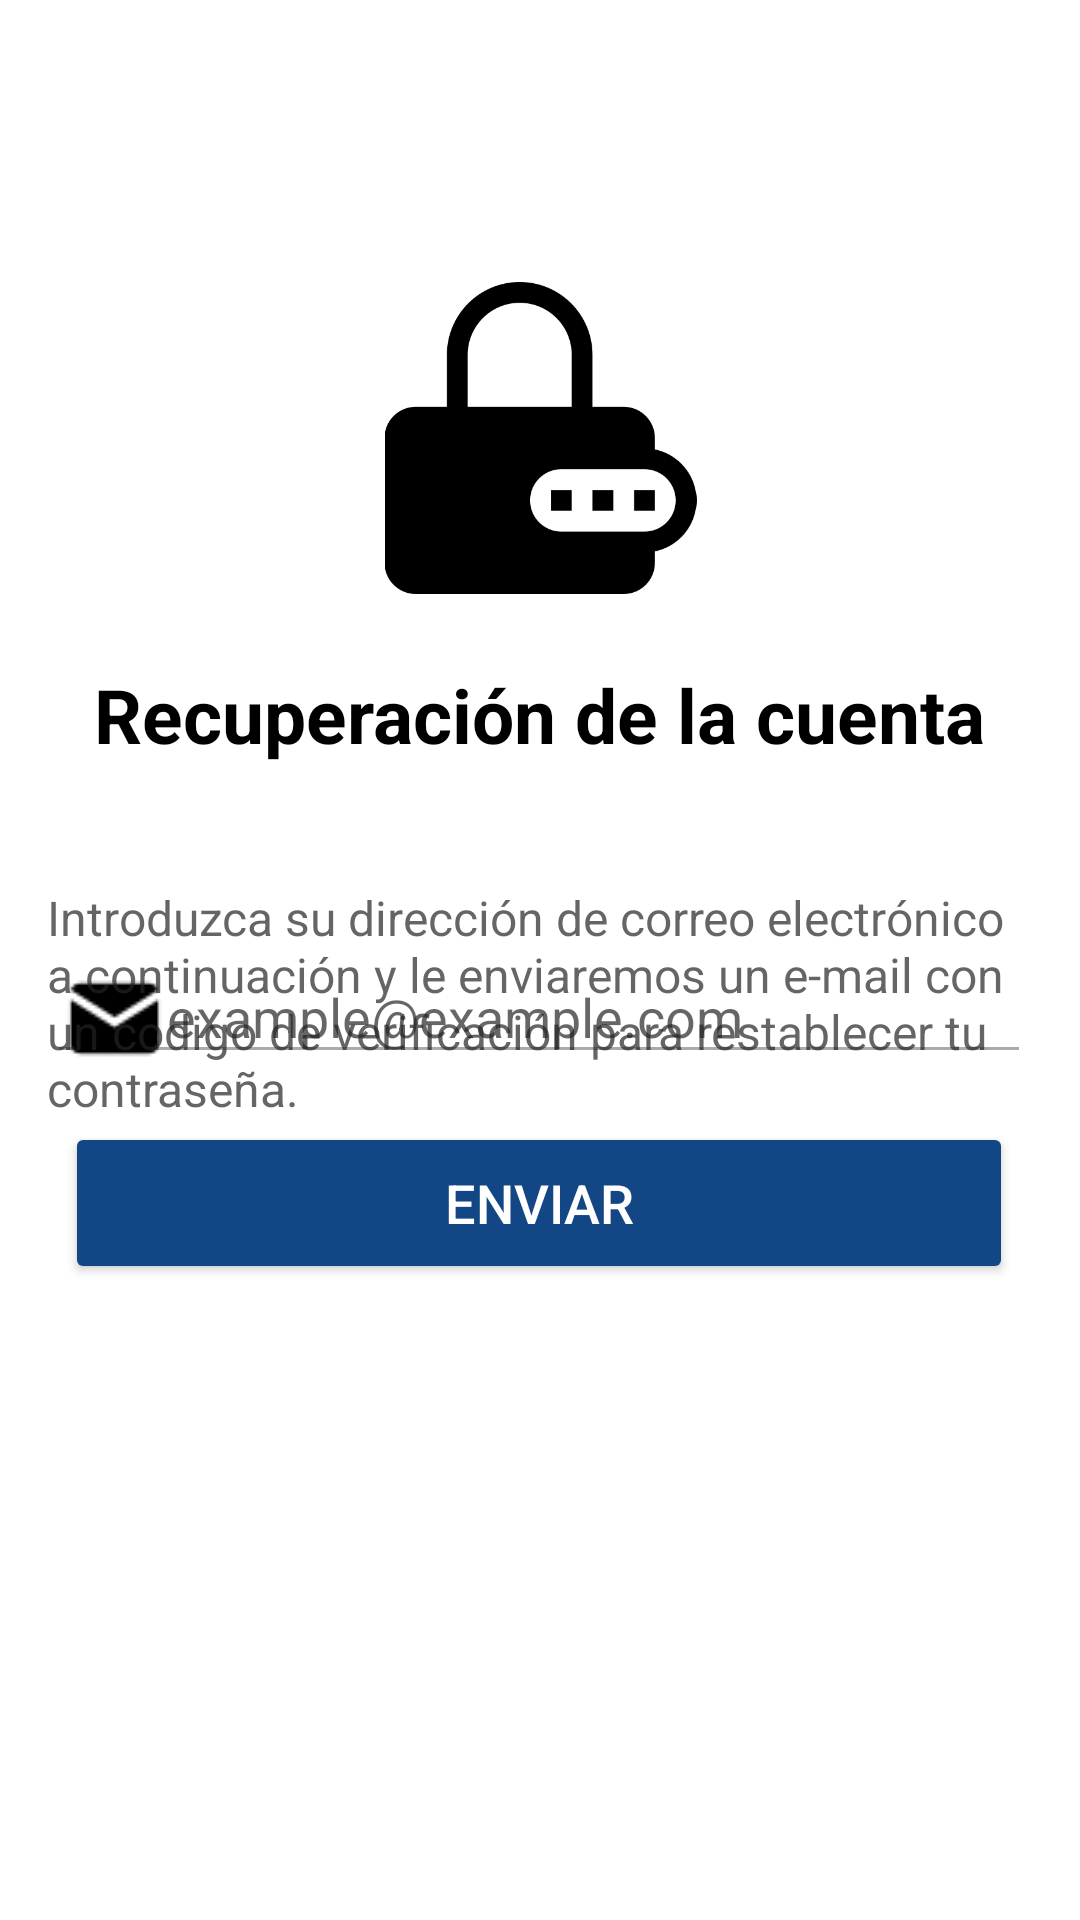

Point at icon controls on the screen. Image size 1080 x 1920, points as point (x, y).
pass: point (541, 438)
